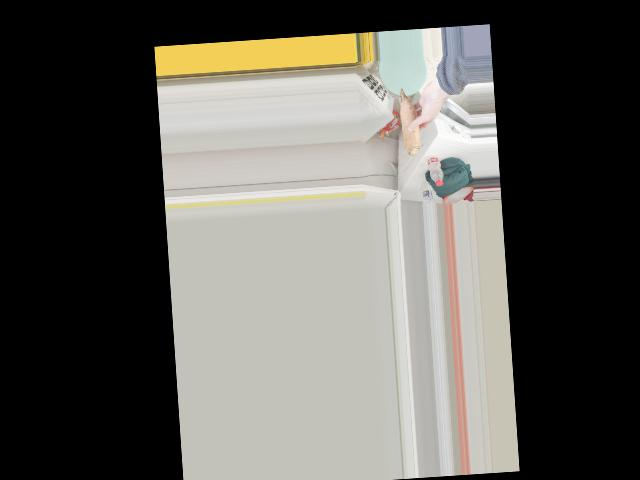sweet_potato: (393, 85, 426, 159)
